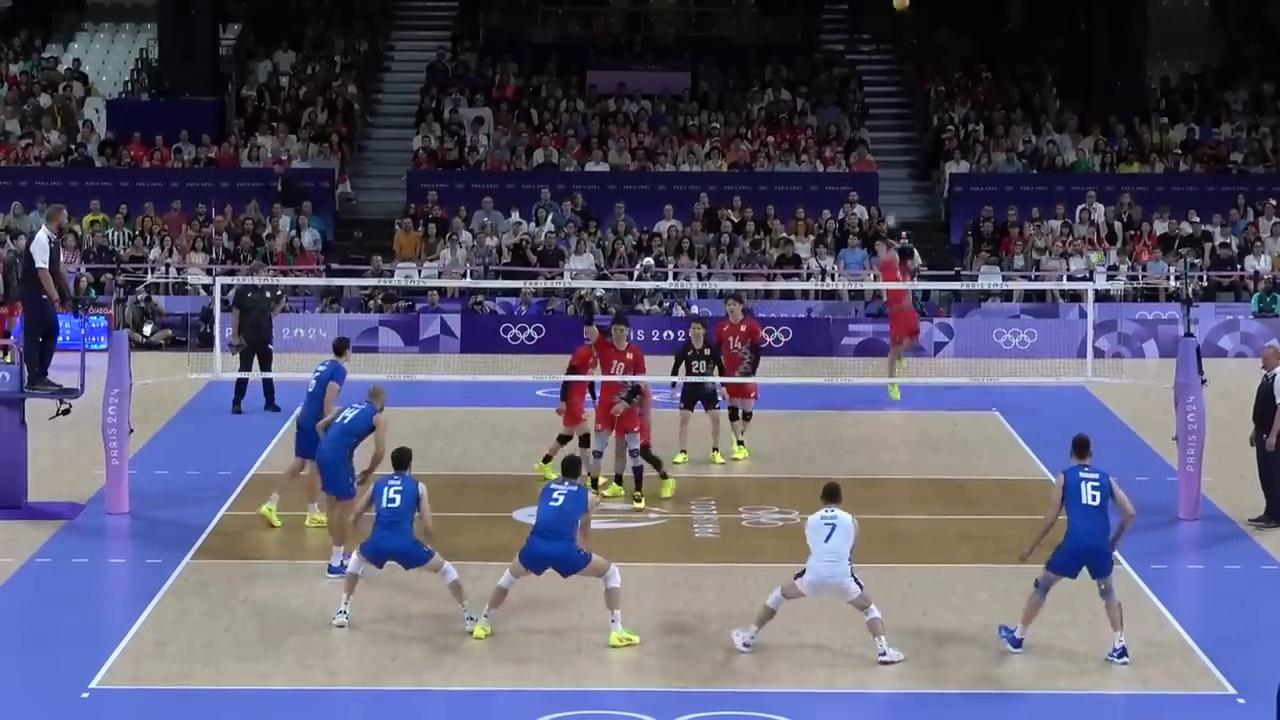ball: (892, 1, 908, 10)
